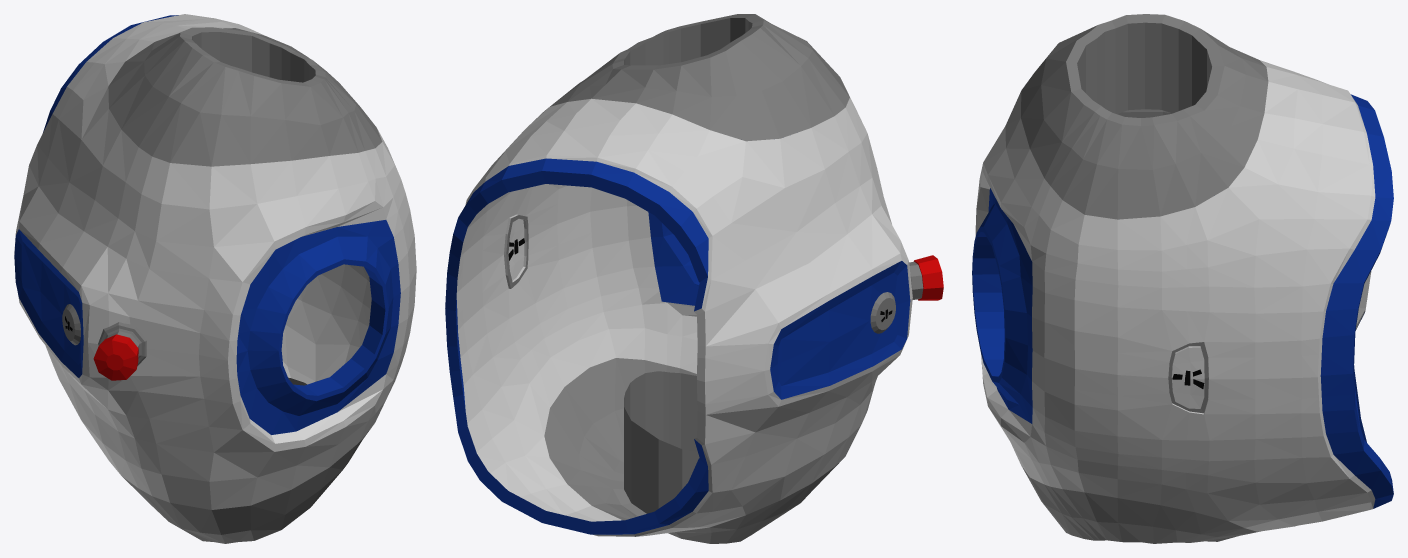
Rendered from Torso.obj.
3 renders of one model, left to right at view 1: azimuth 30°, elevation 25°; view 2: azimuth 150°, elevation 25°; view 3: azimuth 270°, elevation 25°, orthographic. The views are drawn at different scales.
Visible parts, largest first — view 1: Torso; view 2: Torso; view 3: Torso.
Part boxes in pixels (box(x1,y1,x2,y2)): Torso: box(14, 14, 416, 543); Torso: box(445, 14, 943, 543); Torso: box(972, 14, 1393, 543).
Size of the model in its own units: 0.2859 by 0.3757 by 0.2797.
